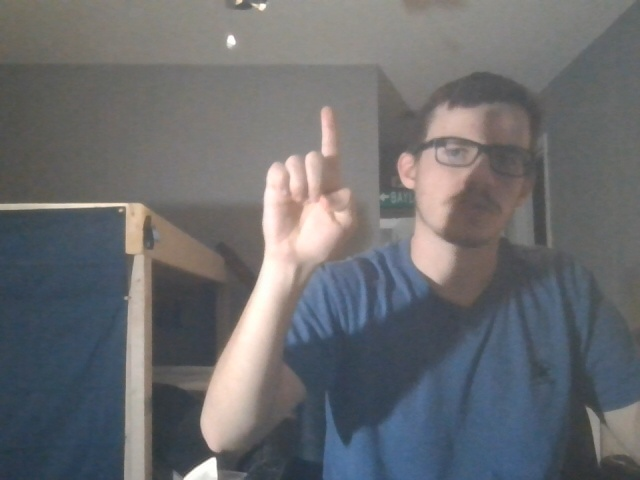D: (238, 101, 370, 268)
